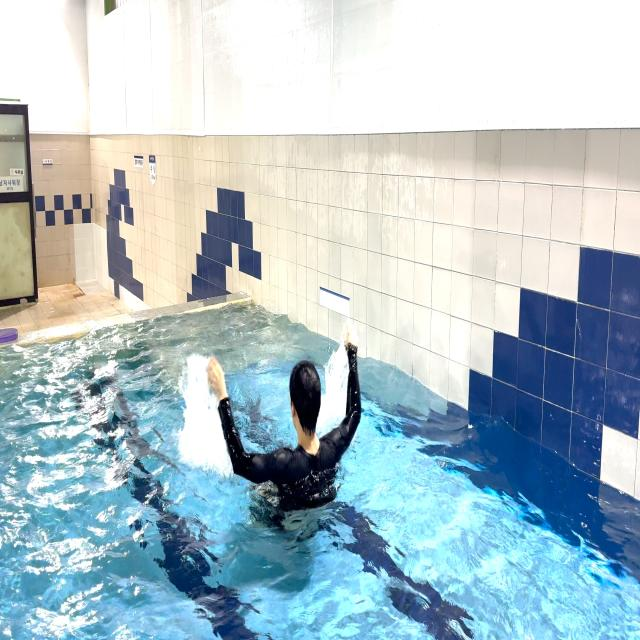Drowning: (171, 309, 382, 517)
